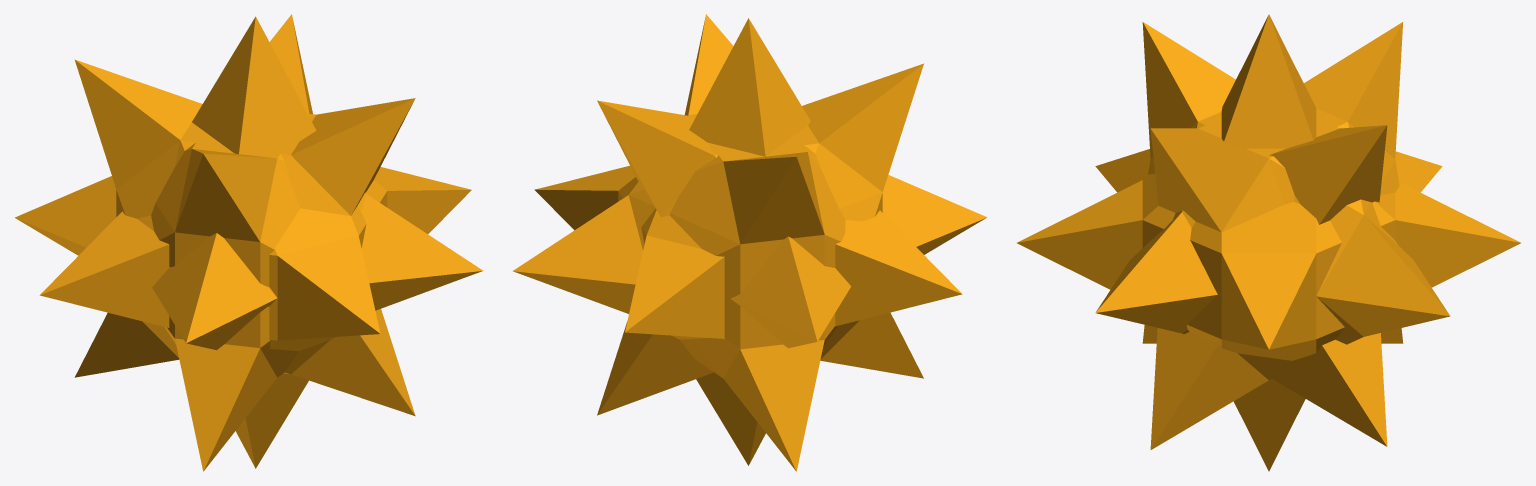
The model's file is gfx_148.obj.
3 renders of one model, left to right at view 1: azimuth 30°, elevation 25°; view 2: azimuth 150°, elevation 25°; view 3: azimuth 270°, elevation 25°, orthographic. The views are drawn at different scales.
Bounding box in the file's own units: 0.5 × 0.5 × 0.5.
